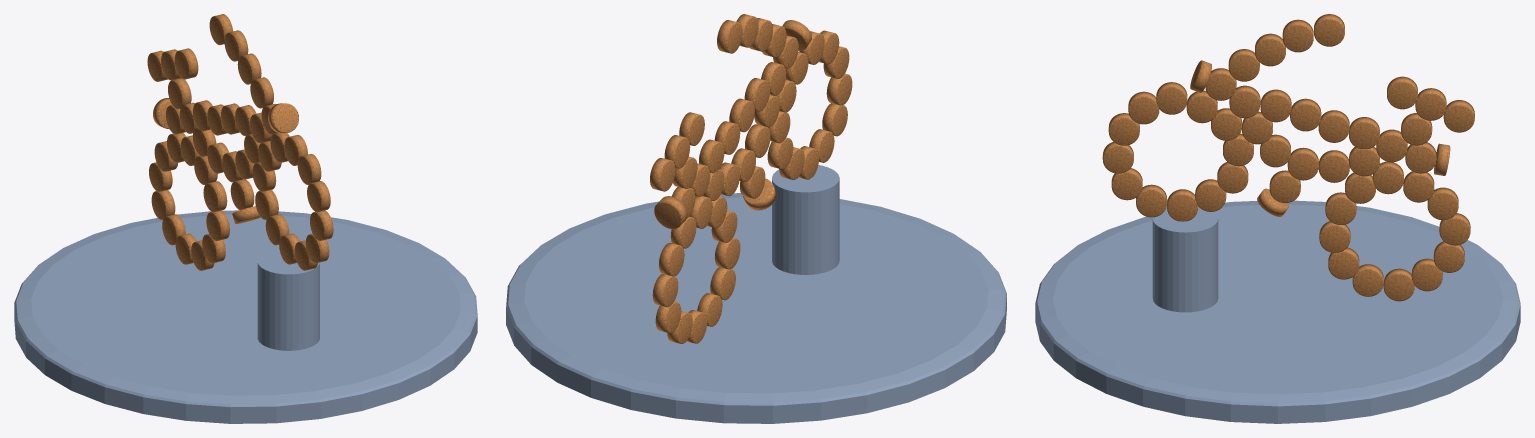
Rendered from BikeSuroAR.glb.
The picture shows the model from 3 angles, left to right: view 1: azimuth 30°, elevation 25°; view 2: azimuth 150°, elevation 25°; view 3: azimuth 270°, elevation 25°; orthographic projection. The views are drawn at different scales.
Parts seen in each view (by area): view 1: Cylinder.049, Cylinder.050, Cylinder.048, Cylinder.045, Cylinder.003, Cylinder.015, Cylinder.024, Cylinder.014, Cylinder.017, Cylinder.002, Cylinder.032, Cylinder.042 (+23 smaller); view 2: Cylinder.049, Cylinder.050, Cylinder.046, Cylinder.035, Cylinder.044, Cylinder.007, Cylinder.008, Cylinder.013, Cylinder.001, Cylinder.028, Cylinder.002, Cylinder.045 (+35 smaller); view 3: Cylinder.049, Cylinder.050, Cylinder.036, Cylinder.034, Cylinder.016, Cylinder.045, Cylinder.037, Cylinder.026, Cylinder.035, Cylinder.043, Cylinder.044, Cylinder.010 (+38 smaller).
Part boxes in pixels (bbox=[...]): Cylinder.049: bbox=[14, 210, 477, 423]; Cylinder.050: bbox=[257, 248, 319, 350]; Cylinder.048: bbox=[268, 103, 298, 133]; Cylinder.045: bbox=[174, 48, 198, 79]; Cylinder.003: bbox=[203, 181, 227, 212]; Cylinder.015: bbox=[307, 181, 330, 212]; Cylinder.024: bbox=[230, 179, 254, 209]; Cylinder.014: bbox=[310, 210, 333, 240]; Cylinder.017: bbox=[297, 154, 321, 184]; Cylinder.002: bbox=[206, 210, 229, 241]; Cylinder.032: bbox=[250, 77, 273, 108]; Cylinder.042: bbox=[168, 78, 191, 109]; Cylinder.049: bbox=[506, 193, 1006, 423]; Cylinder.050: bbox=[772, 165, 839, 274]; Cylinder.046: bbox=[654, 196, 687, 229]; Cylinder.035: bbox=[717, 20, 742, 53]; Cylinder.044: bbox=[650, 158, 675, 191]; Cylinder.007: bbox=[659, 243, 684, 276]; Cylinder.008: bbox=[652, 274, 678, 307]; Cylinder.013: bbox=[822, 103, 847, 136]; Cylinder.001: bbox=[710, 267, 735, 300]; Cylinder.028: bbox=[745, 124, 770, 157]; Cylinder.002: bbox=[714, 237, 740, 269]; Cylinder.045: bbox=[679, 112, 704, 145]; Cylinder.049: bbox=[1035, 200, 1520, 423]; Cylinder.050: bbox=[1152, 207, 1218, 312]; Cylinder.036: bbox=[1260, 89, 1291, 122]; Cylinder.034: bbox=[1282, 19, 1313, 52]; Cylinder.016: bbox=[1156, 82, 1187, 114]; Cylinder.045: bbox=[1387, 76, 1417, 109]; Cylinder.037: bbox=[1290, 98, 1321, 131]; Cylinder.026: bbox=[1318, 150, 1349, 182]; Cylinder.035: bbox=[1314, 14, 1344, 46]; Cylinder.043: bbox=[1415, 88, 1446, 120]; Cylinder.044: bbox=[1443, 100, 1474, 132]; Cylinder.010: bbox=[1383, 268, 1414, 301].
Bounding box in the file's own units: 6.23 × 4.32 × 6.23.
2 materials, 1 textured.
